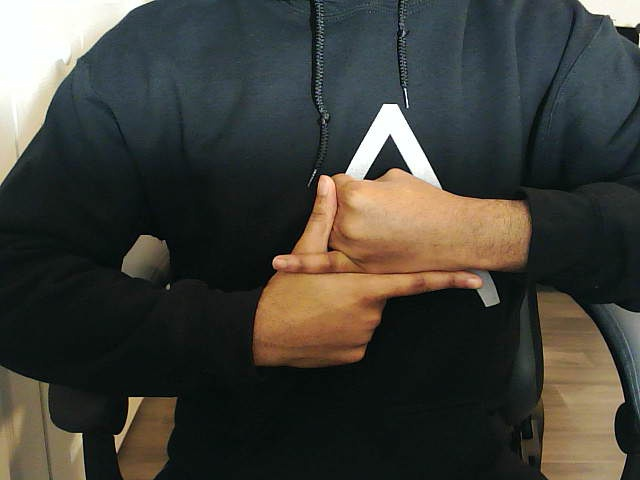Hare: (257, 168, 484, 370)
